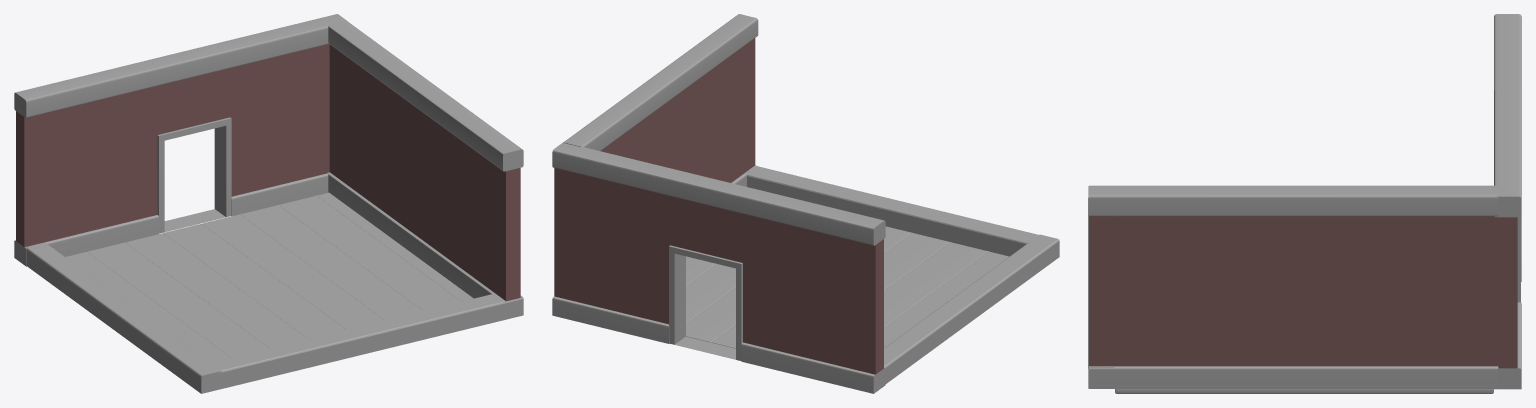
The model's file is room3-4.fbx.
3 views of the same model, side by side, from view 1: azimuth 30°, elevation 25°; view 2: azimuth 150°, elevation 25°; view 3: azimuth 270°, elevation 25° (orthographic). The views are drawn at different scales.
Parts seen in each view (by area): view 1: Wall79, Wall77, Wall78, Wall80, Door_Frame27, Wall81, Floor45, Floor46, Floor42, Floor43, Floor44, Floor47 (+2 smaller); view 2: Wall77, Wall78, Wall79, Wall80, Door_Frame27, Wall81, Floor42, Floor41, Floor43, Floor46, Floor45, Floor44 (+1 smaller); view 3: Wall79, Wall78, Wall77, Floor48.
Boxes of the visible parts, box(x1,y1,x2,y2) form: Wall79: box(327, 20, 523, 301); Wall77: box(14, 60, 159, 266); Wall78: box(148, 14, 346, 216); Wall80: box(208, 293, 523, 389); Door_Frame27: box(157, 68, 231, 233); Wall81: box(26, 242, 221, 393); Floor45: box(202, 214, 384, 329); Floor46: box(240, 205, 422, 320); Floor42: box(87, 242, 268, 357); Floor43: box(125, 233, 307, 348); Floor44: box(163, 224, 345, 338); Floor47: box(278, 196, 460, 310); Wall77: box(741, 188, 885, 393); Wall78: box(552, 142, 751, 343); Wall79: box(563, 14, 758, 186); Wall80: box(746, 166, 1040, 256); Door_Frame27: box(669, 196, 742, 360); Wall81: box(884, 234, 1059, 383); Floor42: box(884, 242, 987, 327); Floor41: box(884, 251, 1009, 348); Floor43: box(884, 233, 949, 290); Floor46: box(686, 264, 735, 323); Floor45: box(686, 287, 735, 342); Floor44: box(712, 226, 911, 348); Wall79: box(1089, 185, 1498, 388); Wall78: box(1494, 89, 1521, 389); Wall77: box(1494, 14, 1521, 281); Floor48: box(1115, 389, 1493, 393).
Bounding box in the file's own units: 5.77 × 2.93 × 5.79.
